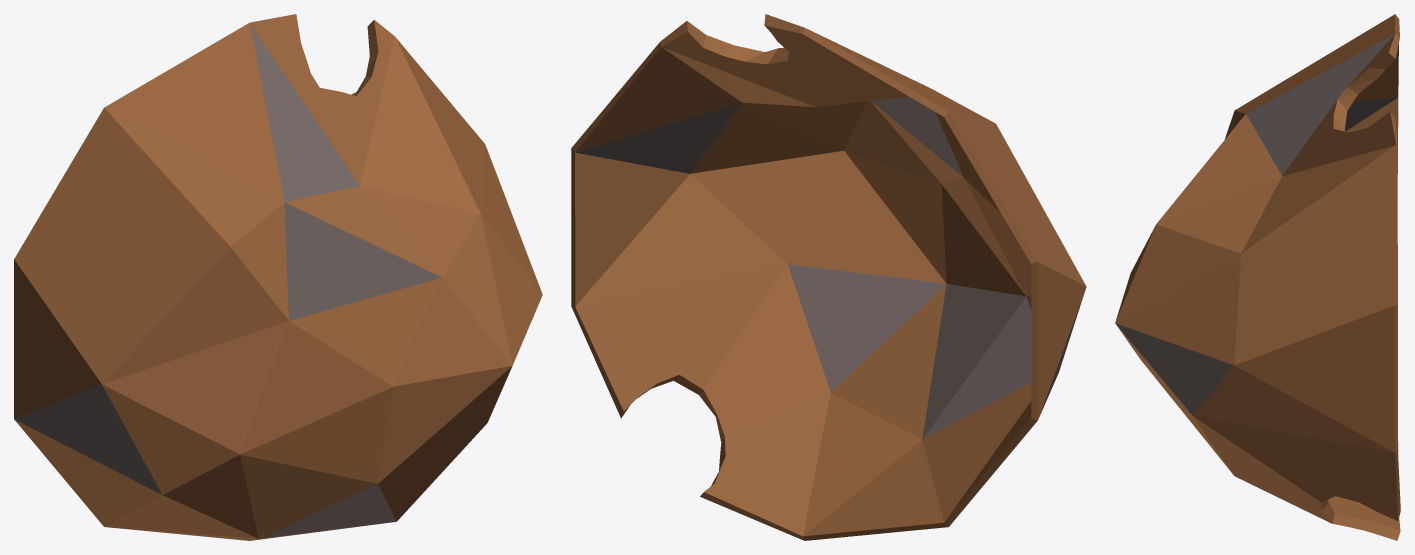
File: Cave.fbx
3 renders of one model, left to right at view 1: azimuth 30°, elevation 25°; view 2: azimuth 150°, elevation 25°; view 3: azimuth 270°, elevation 25°, orthographic. The views are drawn at different scales.
Parts seen in each view (by area): view 1: Icosphere.001; view 2: Icosphere.001; view 3: Icosphere.001.
Part boxes in pixels (x1,y1,x2,y2): Icosphere.001: (14,14,542,540); Icosphere.001: (571,14,1086,540); Icosphere.001: (1115,14,1400,540).
Bounding box in the file's own units: 1332 × 1402 × 758.
